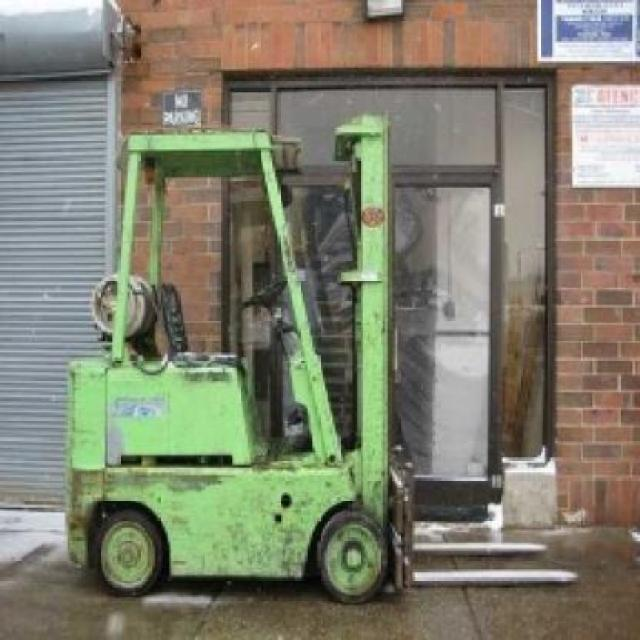forklift: (69, 115, 389, 604)
